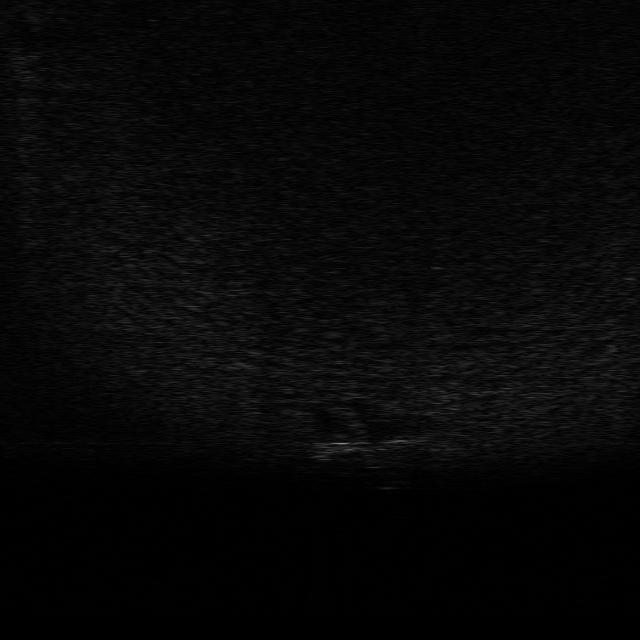plane: (308, 417, 428, 467)
